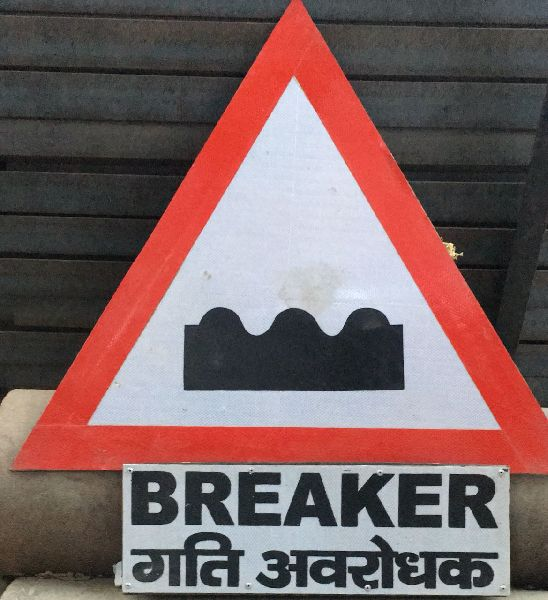speed-breaker: (13, 1, 547, 466)
